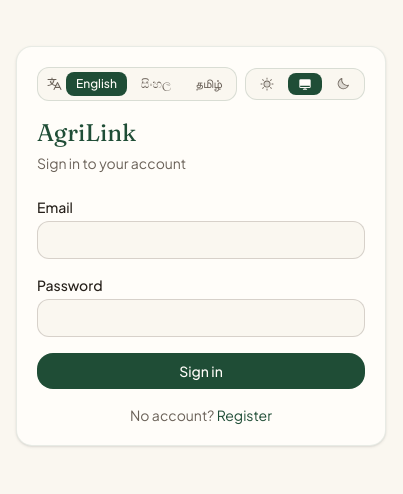
Test: LoginPage › shows a rejected application's reason
In the field labelled "Email": [201, 240] box [37,221,365,259], type "farmer@agrilink.lk"
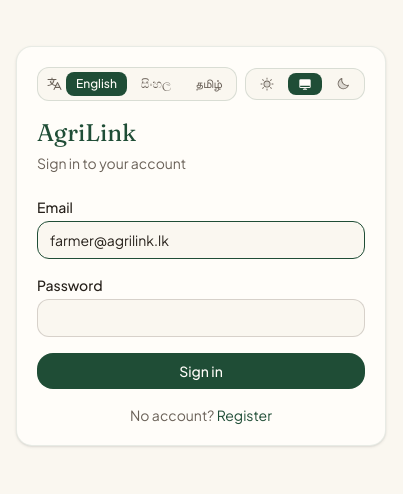
In the password field labelled "Password": [201, 318] box [37,299,365,337], type "Farmer@AgriLink.2026!"
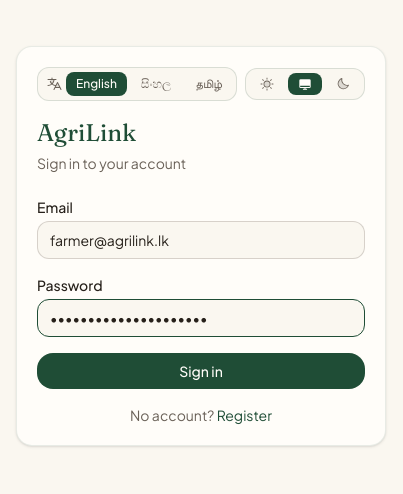
Click the button "Sign in": [201, 371] box [37,353,365,389]
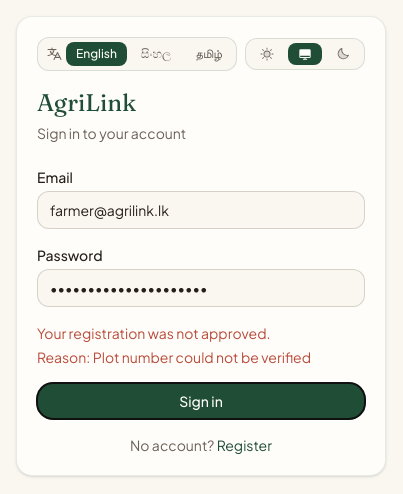
Now the text "Your registration was not approved." is shown, box [37,324,270,342]
Now the text "Reason: Plot number could not be verified" is shown, box [37,348,311,366]
